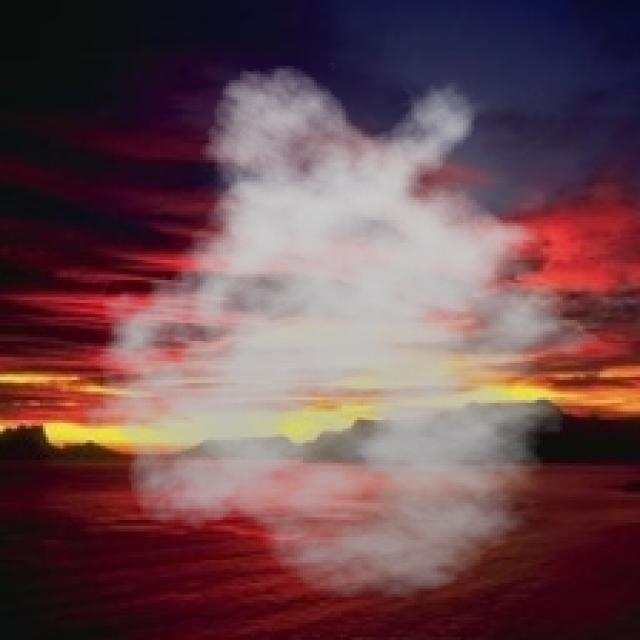Smoke: (69, 63, 626, 600)
